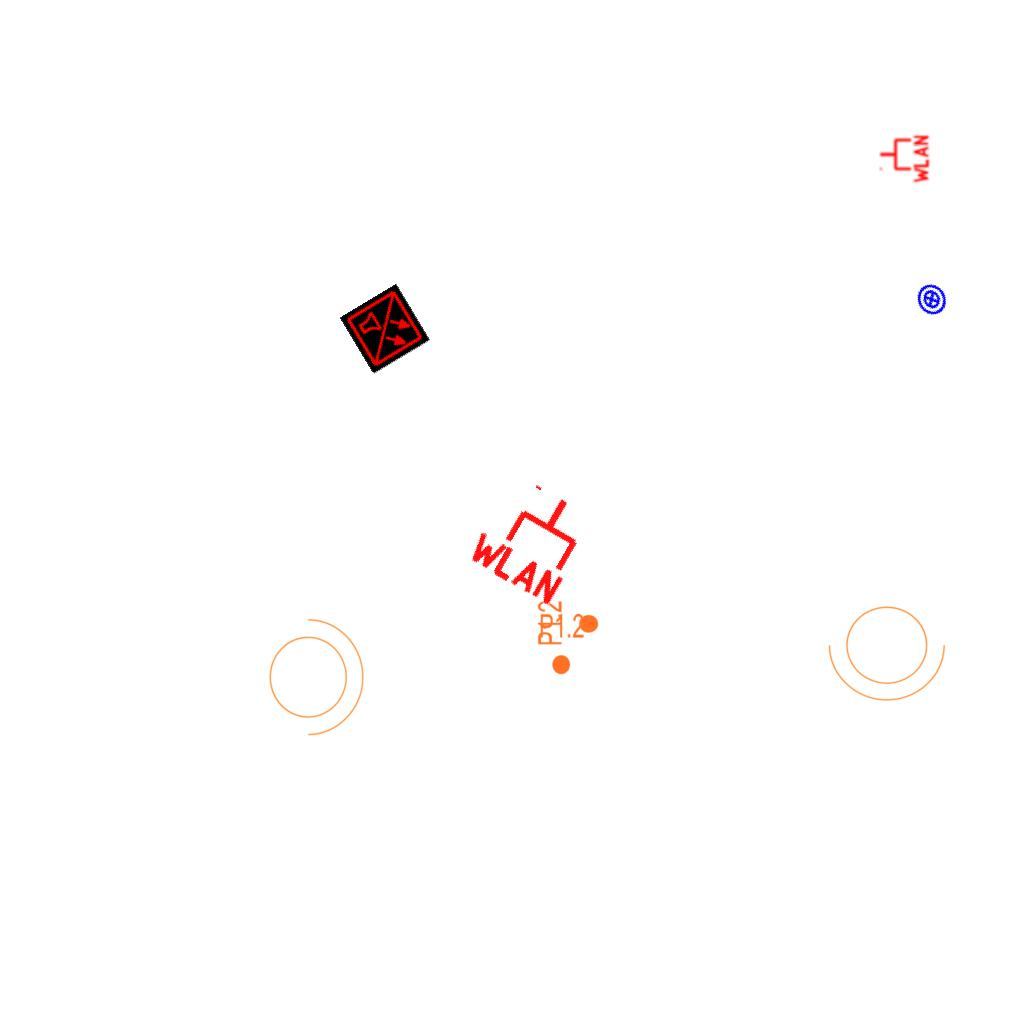Downlight_LED_Einbauleuchten_Flur: (536, 600, 600, 646), (539, 612, 585, 676)
OKW_Multisensormelder_(Kombination_optischer_Rauch-Kahlenmonoxid_Waerme-Melder): (339, 283, 431, 375)
Scheinwerfer_fuer_Alarmbeleuchtung: (257, 608, 369, 740), (824, 594, 956, 706)
Taster_beleuchtet: (909, 277, 954, 322)
WLAN: (461, 466, 604, 610), (878, 133, 930, 185)
